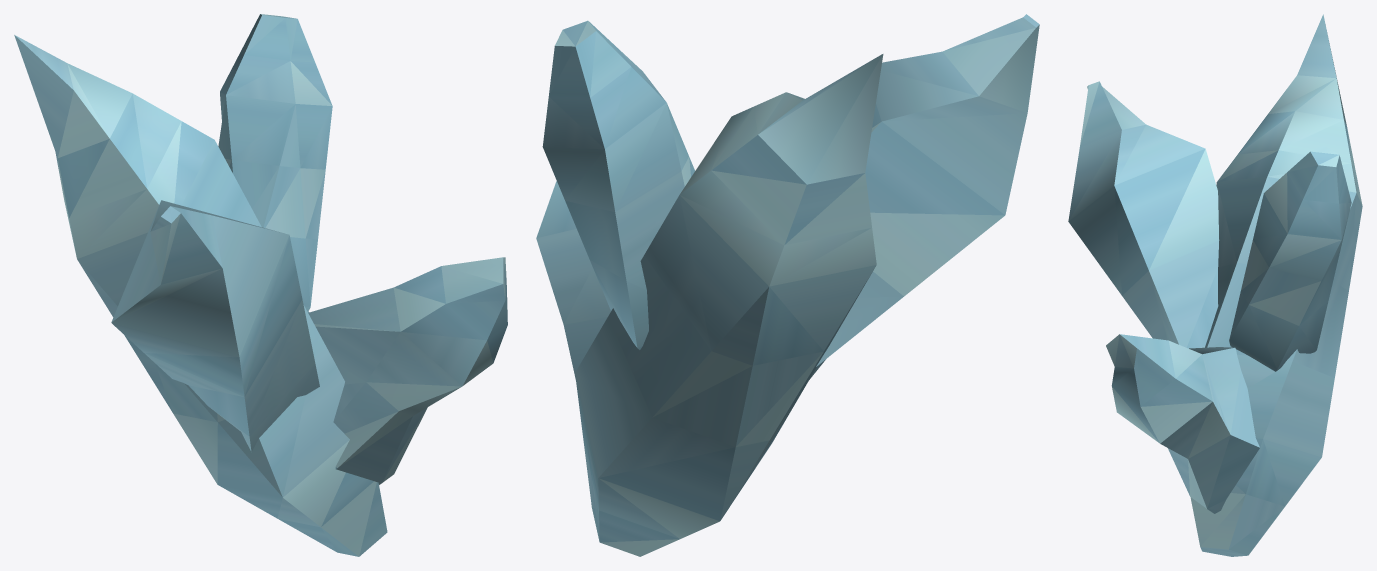
Rendered from crystalHielo.obj.
The picture shows the model from 3 angles, left to right: view 1: azimuth 30°, elevation 25°; view 2: azimuth 150°, elevation 25°; view 3: azimuth 270°, elevation 25°; orthographic projection. The views are drawn at different scales.
Visible parts, largest first — view 1: Low_Material.001; view 2: Low_Material.001; view 3: Low_Material.001.
Part boxes in pixels (box(x1,y1,x2,y2)): Low_Material.001: box(14, 14, 507, 556); Low_Material.001: box(536, 14, 1039, 556); Low_Material.001: box(1068, 14, 1362, 556).
Bounding box in the file's own units: 3.86 × 5.19 × 3.16.
